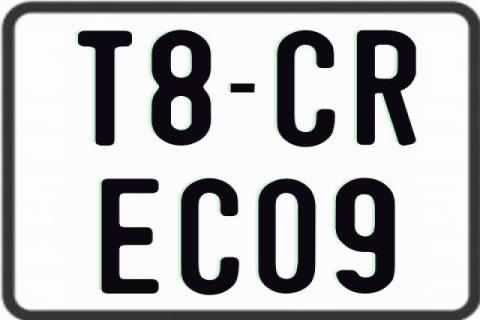0: (152, 29, 214, 149), (335, 176, 396, 294), (258, 178, 316, 296)
C: (274, 29, 333, 147), (178, 177, 238, 293)
E: (98, 176, 158, 291)
R: (357, 28, 419, 145)
T: (77, 30, 133, 146)
